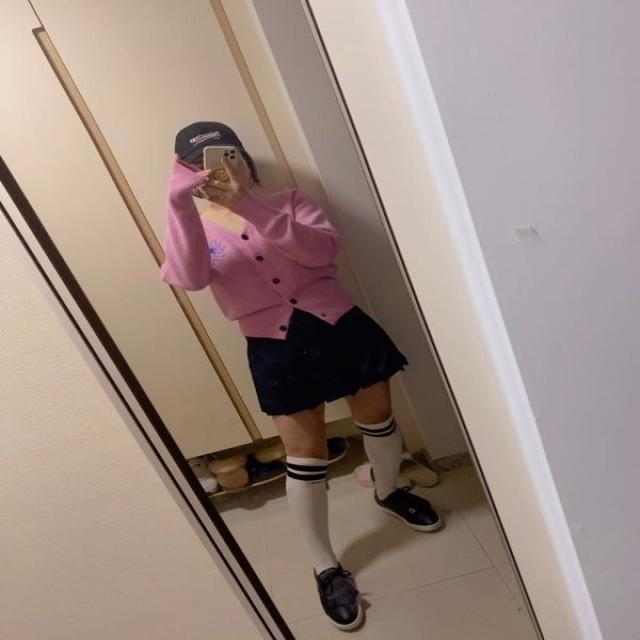cardigan: (160, 162, 360, 342)
skirt: (247, 297, 405, 417)
